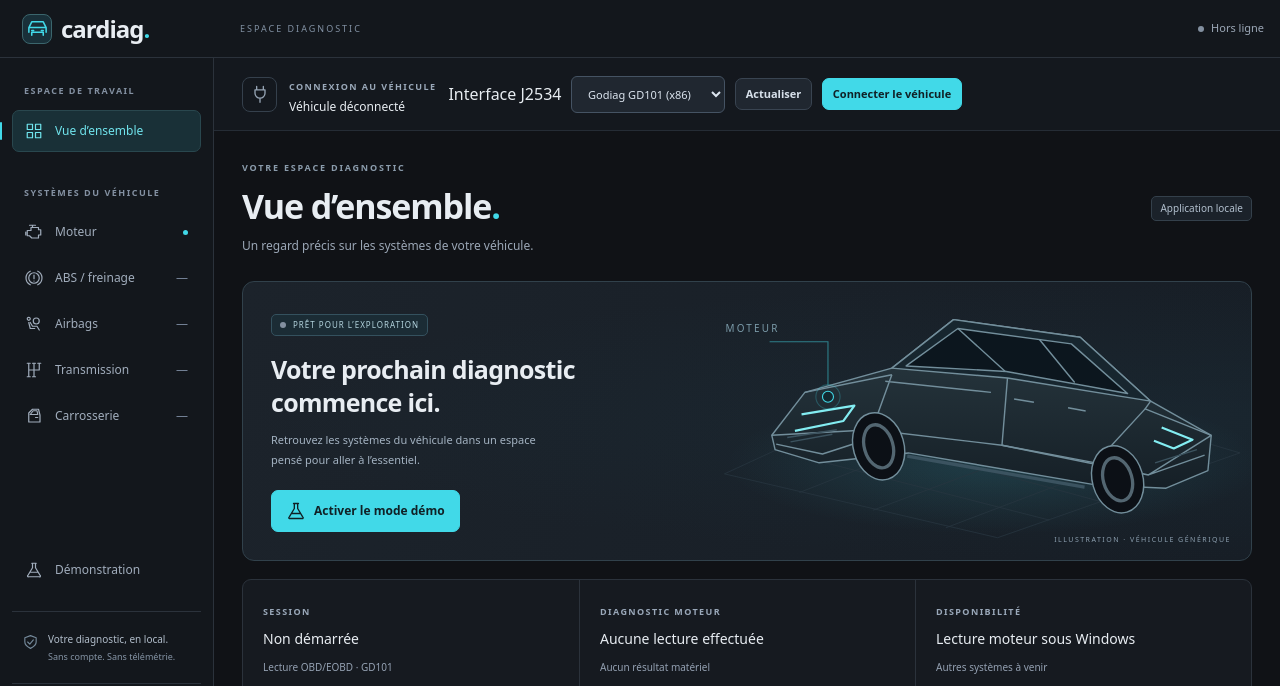
Test: lecture matérielle › affiche une interruption réelle sans message de simulation
Step 1. Click the button "Connecter le véhicule" → (892, 94), box [822,78,962,110]
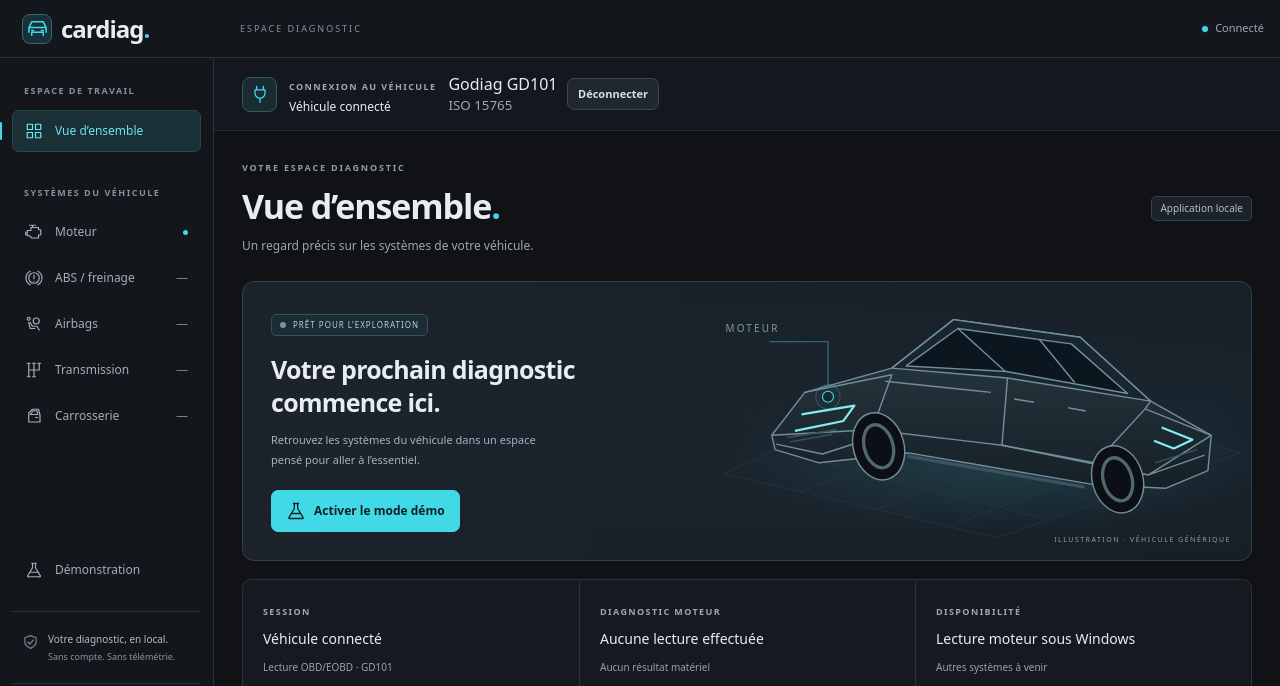
Now the message reads "Véhicule connecté", box [289,98,391,115]
Step 2. Click the button "Moteur" → (106, 232), box [12,211,201,253]
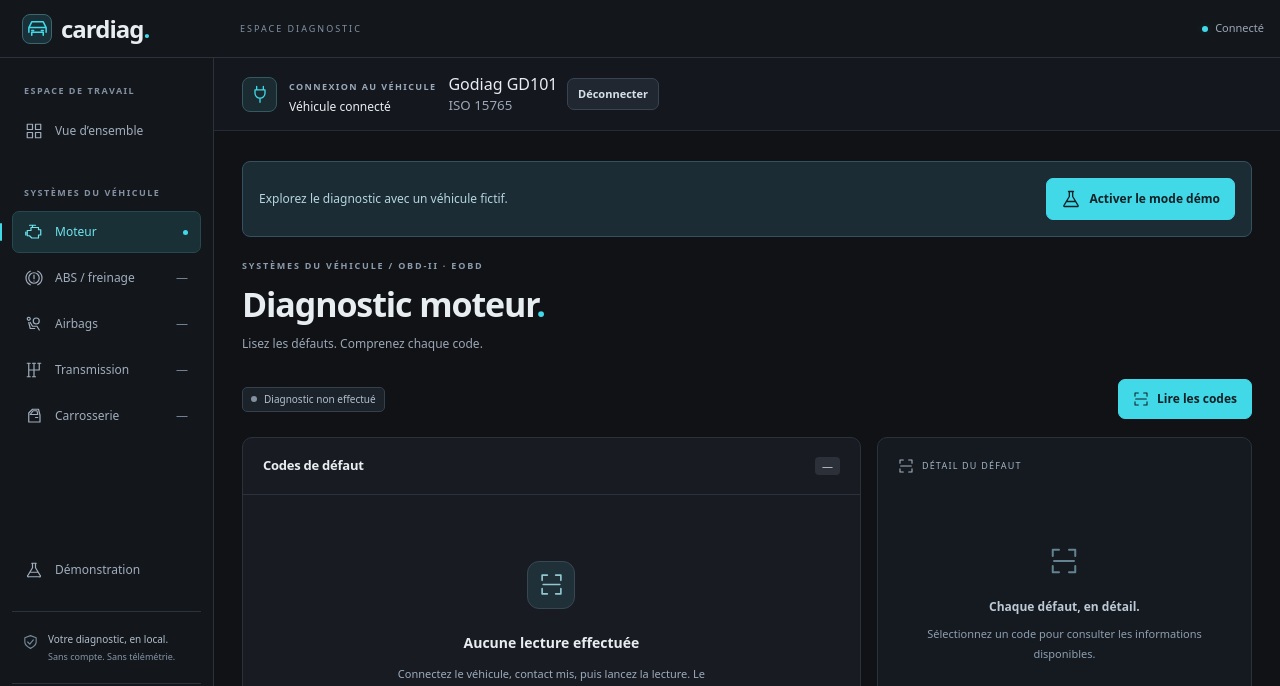
Step 3. Click the button "Lire les codes" → (1185, 399), box [1118,379,1252,419]
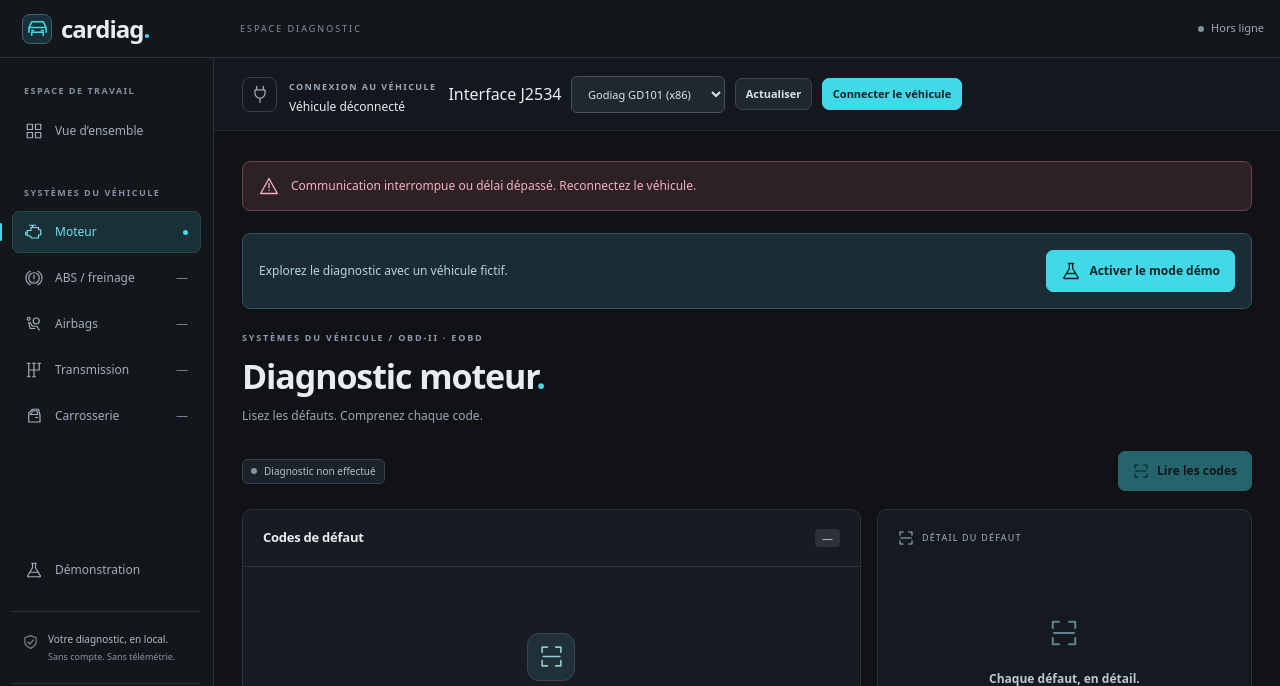
Now the message "Communication interrompue ou délai dépassé. Reconnectez le véhicule." is shown, box [242,161,1252,211]
